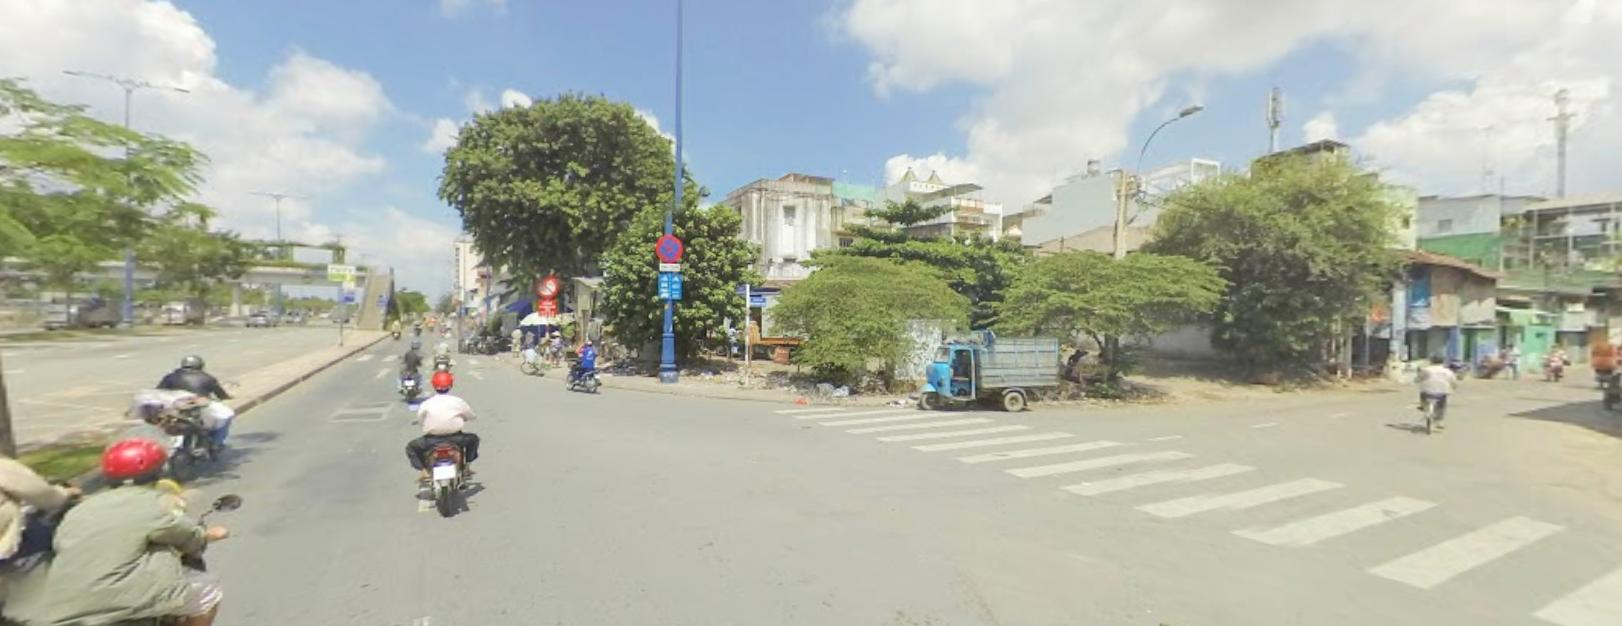Cam con lai: (535, 274, 558, 295)
Cam dung va do: (655, 234, 680, 260)
